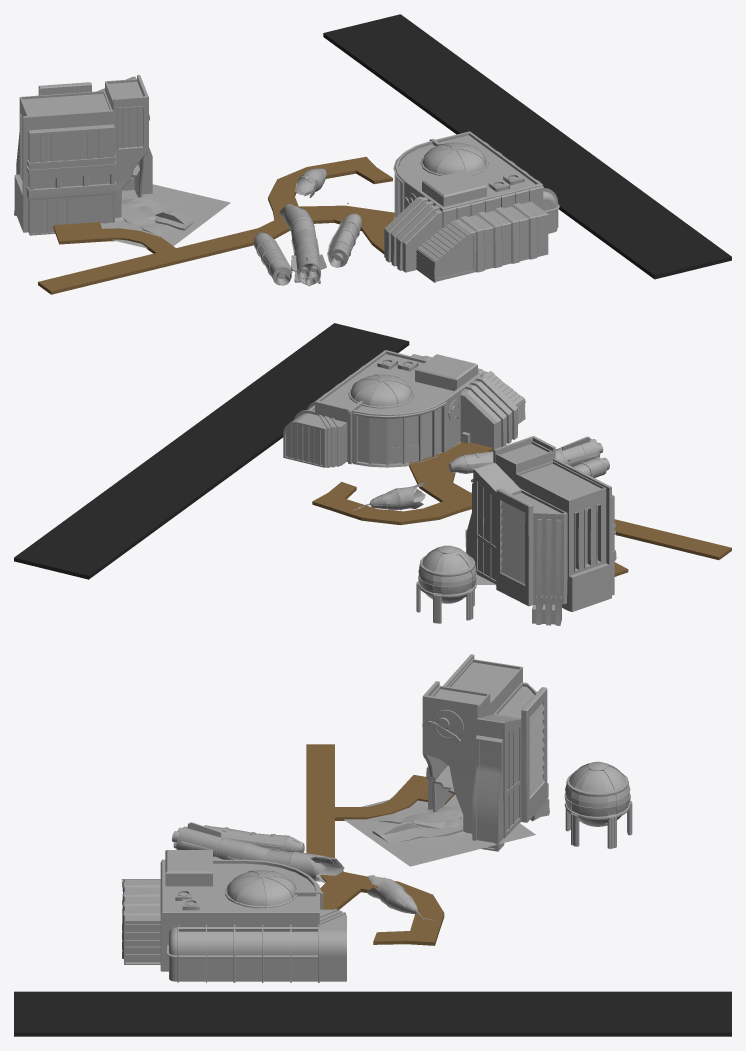
File: texture ditt space center.fbx
3 renders of one model, top to bottom at view 1: azimuth 30°, elevation 25°; view 2: azimuth 150°, elevation 25°; view 3: azimuth 270°, elevation 25°, orthographic. The views are drawn at different scales.
Parts seen in each view (by area): view 1: Cube.010, pCube2, Cube.020, pCube10, pCube8, pCube11, pPlane3, pCylinder3, raket_body, pCube9, pCylinder11, pCylinder12 (+6 smaller); view 2: Cube.010, pCube8, pCube2, pCube3, Cube.020, pCube11, pCube7, pSphere1, pCube4, pCylinder3, pPlane1, pCube9 (+7 smaller); view 3: Cube.010, pCube7, Cube.020, pCube1, pCube8, pCube3, pCube2, pCube10, pPlane3, raket_body, pSphere1, pCylinder3 (+9 smaller).
Part boxes in pixels (x1,y1,x2,y2): Cube.010: (323, 14, 731, 279); pCube2: (14, 79, 148, 235); Cube.020: (38, 156, 394, 294); pCube10: (416, 201, 548, 282); pCube8: (393, 131, 543, 227); pCube11: (384, 196, 442, 272); pPlane3: (101, 184, 230, 248); pCylinder3: (420, 142, 488, 176); raket_body: (279, 204, 320, 284); pCube9: (422, 170, 486, 206); pCylinder11: (253, 232, 292, 285); pCylinder12: (327, 213, 361, 267); Cube.010: (14, 323, 409, 579); pCube8: (315, 350, 482, 467); pCube2: (495, 436, 616, 611); pCube3: (473, 463, 567, 606); Cube.020: (312, 441, 731, 576); pCube11: (460, 376, 517, 449); pCube7: (283, 365, 364, 467); pSphere1: (418, 545, 476, 603); pCube4: (532, 519, 561, 625); pCylinder3: (348, 374, 414, 408); pPlane1: (500, 501, 525, 584); pCube9: (415, 354, 477, 390); Cube.010: (14, 991, 731, 1036); pCube7: (166, 909, 346, 982); Cube.020: (306, 744, 454, 945); pCube1: (423, 695, 504, 851); pCube8: (160, 859, 323, 971); pCube3: (478, 682, 547, 838); pCube2: (422, 654, 522, 812); pCube10: (121, 879, 160, 964); pPlane3: (343, 795, 535, 866); raket_body: (176, 826, 344, 882); pSphere1: (564, 761, 630, 826); pCylinder3: (225, 870, 298, 908).
Size of the model in its own units: 21.03 by 5.25 by 22.11.
